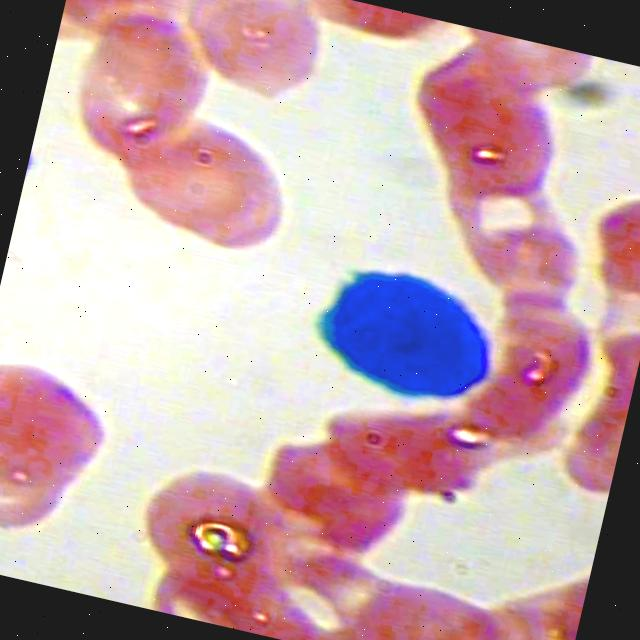RBC: (100, 92, 310, 272), (64, 0, 232, 178), (0, 336, 132, 532), (129, 449, 295, 592), (422, 82, 582, 222), (402, 33, 564, 170), (171, 0, 343, 111), (452, 26, 604, 119)
WBC: (278, 237, 512, 428)
